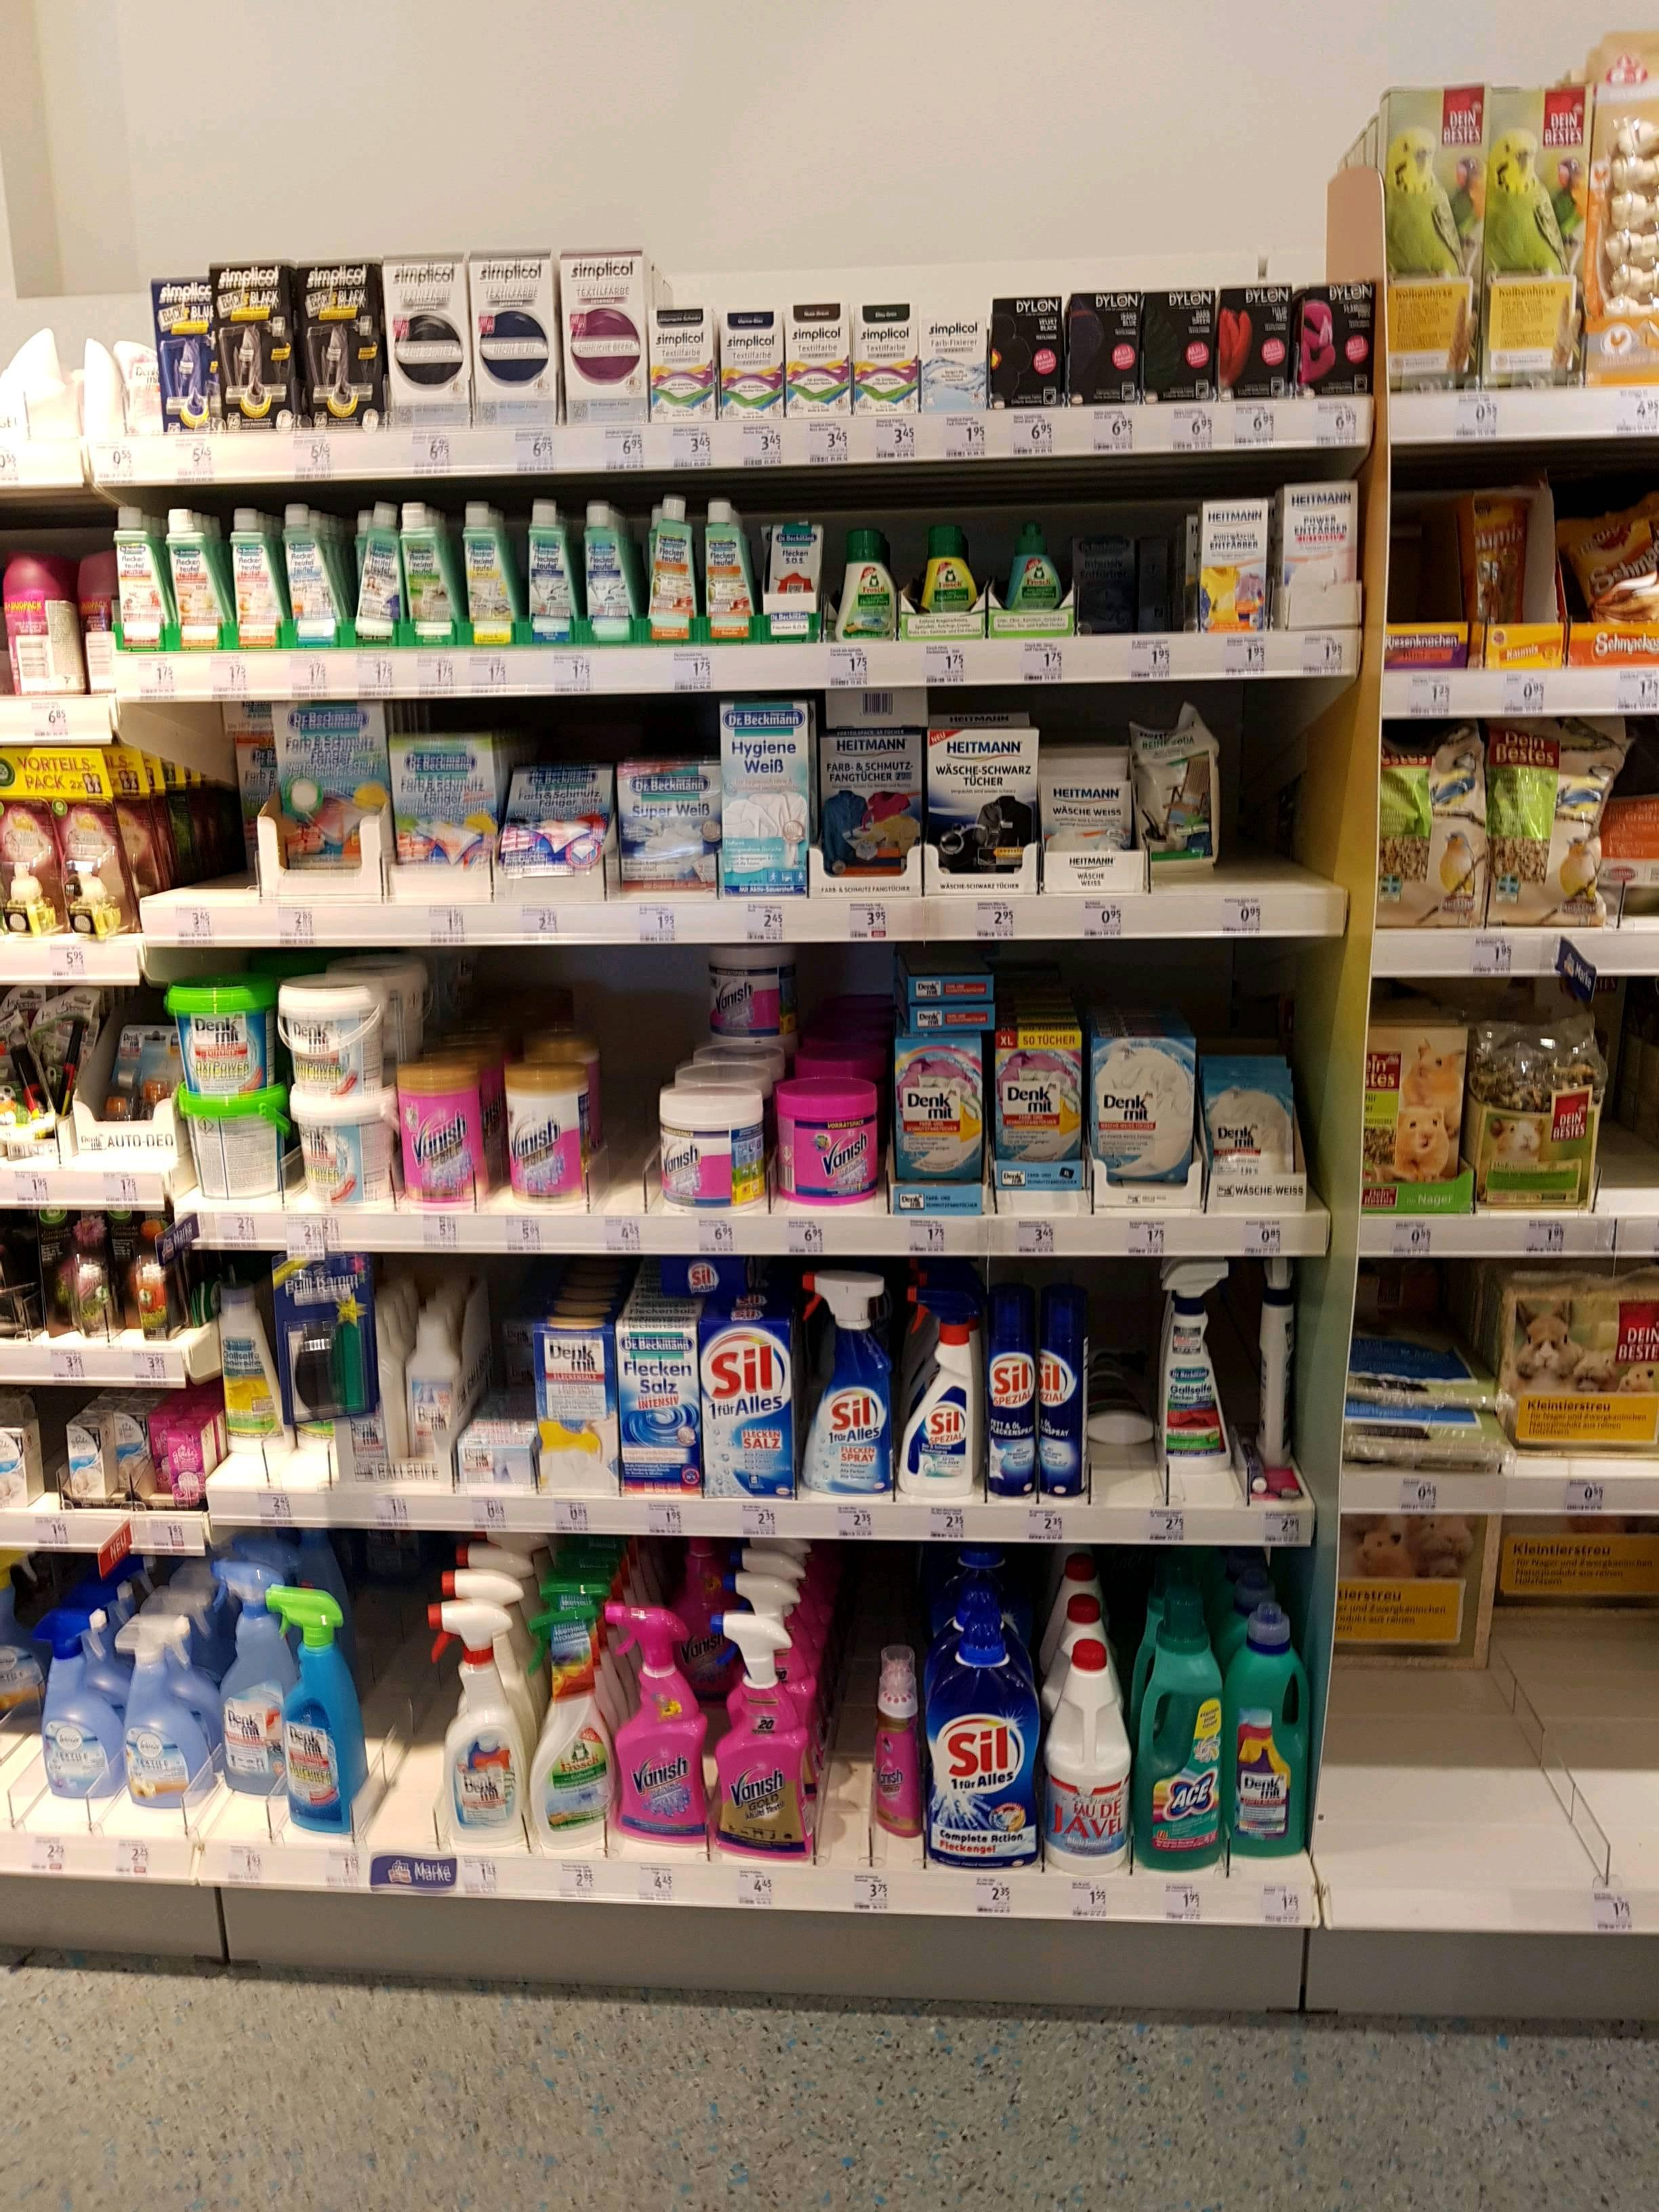empty: (1504, 1550, 1659, 1916), (1342, 1561, 1497, 1905), (1218, 709, 1333, 883), (1065, 482, 1197, 631), (361, 1613, 443, 1851), (584, 1021, 660, 1207)
